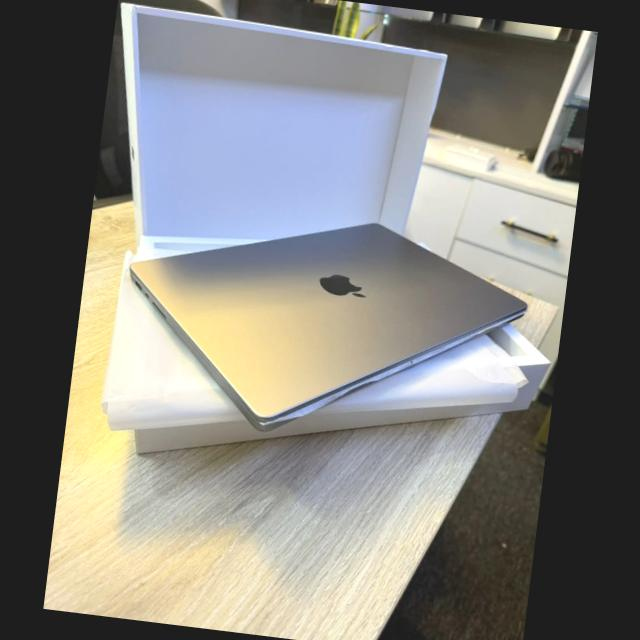laptop: (136, 195, 536, 448)
